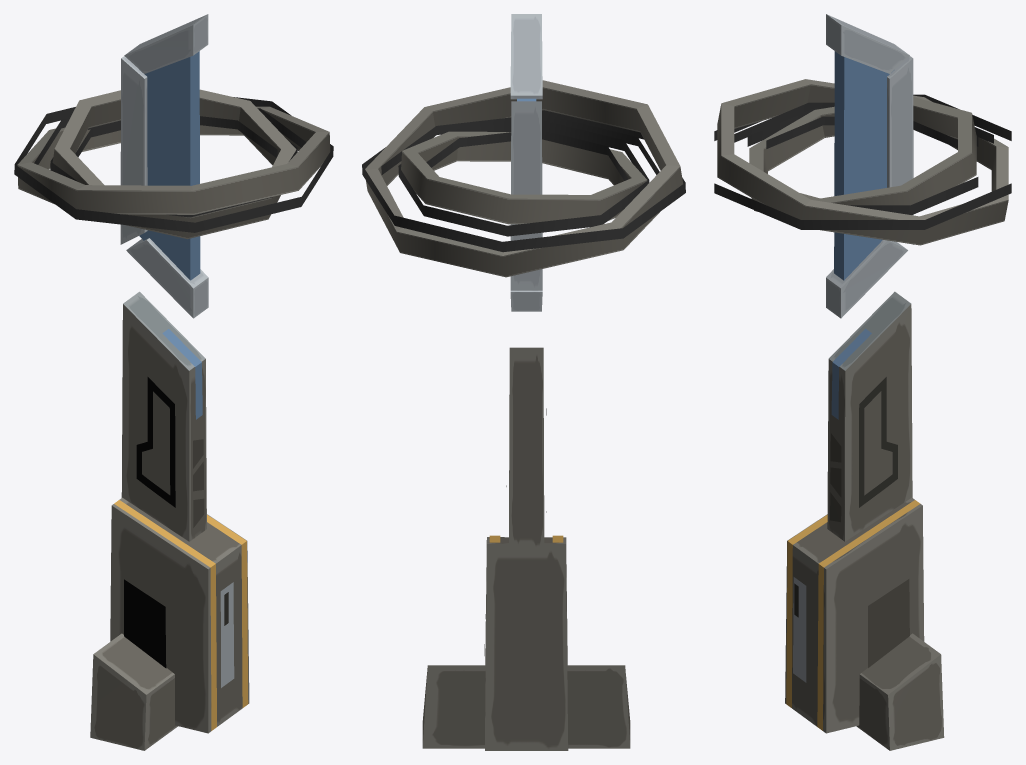
The model's file is march_end_sign.FBX.
3 views of the same model, side by side, from view 1: azimuth 30°, elevation 25°; view 2: azimuth 150°, elevation 25°; view 3: azimuth 270°, elevation 25° (orthographic).
Visible parts, largest first — view 1: sign, s4, s2, s1, s3, s5, s6, s7; view 2: sign, s4, s3, s2, s5, s6; view 3: sign, s4, s2, s1, s3, s5, s6, s7.
Part boxes in pixels (<box>): sign: <box>90,291,249,750</box>; s4: <box>17,106,330,214</box>; s2: <box>120,14,208,318</box>; s1: <box>139,51,200,280</box>; s3: <box>52,89,296,239</box>; s5: <box>14,97,333,232</box>; s6: <box>50,116,297,217</box>; s7: <box>162,329,202,419</box>; sign: <box>422,347,630,750</box>; s4: <box>365,80,683,277</box>; s3: <box>401,131,647,224</box>; s2: <box>510,14,542,311</box>; s5: <box>362,110,685,252</box>; s6: <box>398,120,649,236</box>; sign: <box>785,291,944,750</box>; s4: <box>717,79,1008,245</box>; s2: <box>826,14,913,318</box>; s1: <box>834,51,894,280</box>; s3: <box>749,97,976,211</box>; s5: <box>714,94,1011,229</box>; s6: <box>747,108,978,214</box>; s7: <box>831,328,871,419</box>.
Size of the model in its own units: 46.72 by 46.63 by 120.
